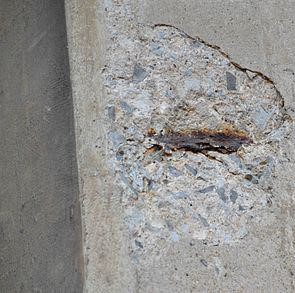Exposed reinforcement: (154, 130, 253, 156)
Spalling: (100, 1, 294, 255)
